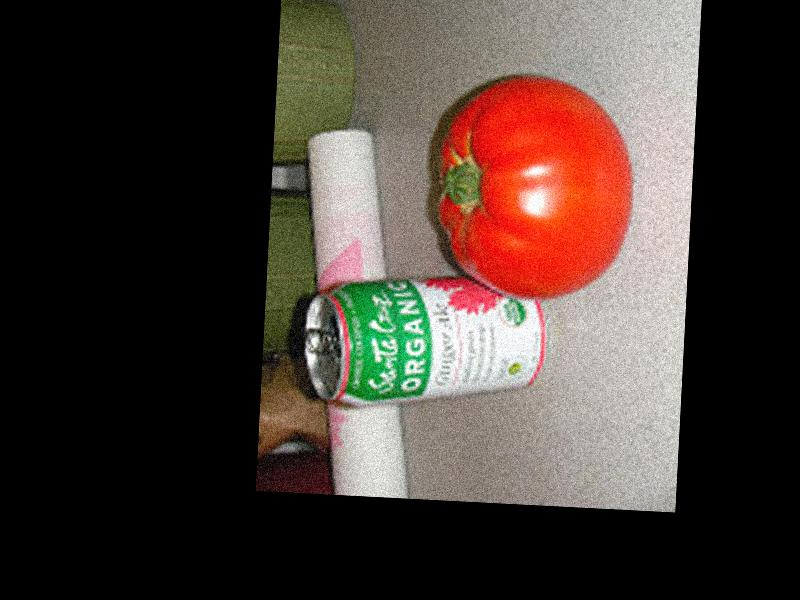Tomato: (434, 74, 636, 302)
